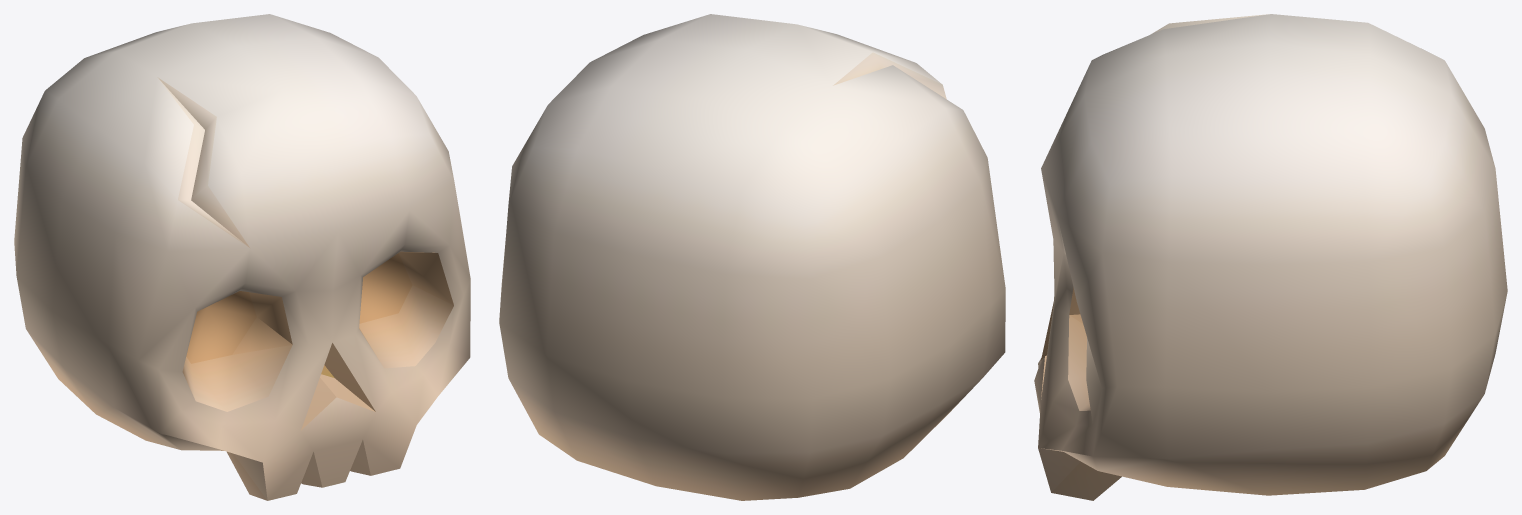
The model's file is d_kaykit_crane.glb.
The picture shows the model from 3 angles, left to right: view 1: azimuth 30°, elevation 25°; view 2: azimuth 150°, elevation 25°; view 3: azimuth 270°, elevation 25°; orthographic projection. The views are drawn at different scales.
Parts seen in each view (by area): view 1: d_kaykit_crane; view 2: d_kaykit_crane; view 3: d_kaykit_crane.
Part boxes in pixels (x1,y1,x2,y2): d_kaykit_crane: (14, 14, 470, 500); d_kaykit_crane: (499, 14, 1005, 500); d_kaykit_crane: (1034, 14, 1507, 500).
Size of the model in its own units: 0.9176 by 0.8982 by 0.9072.
Materials: 1 (1 with a texture image).
